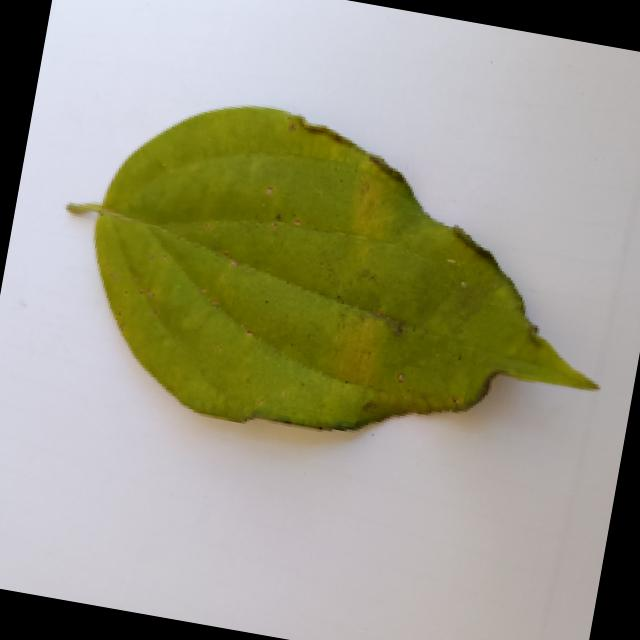slow-decline: (37, 79, 638, 486)
